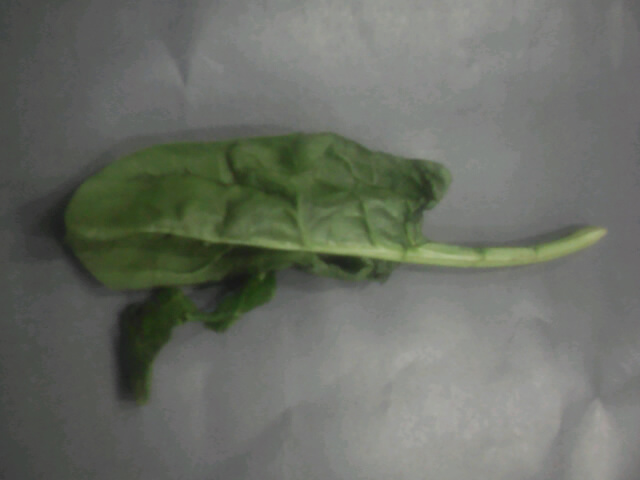yellow: (45, 101, 485, 415)
